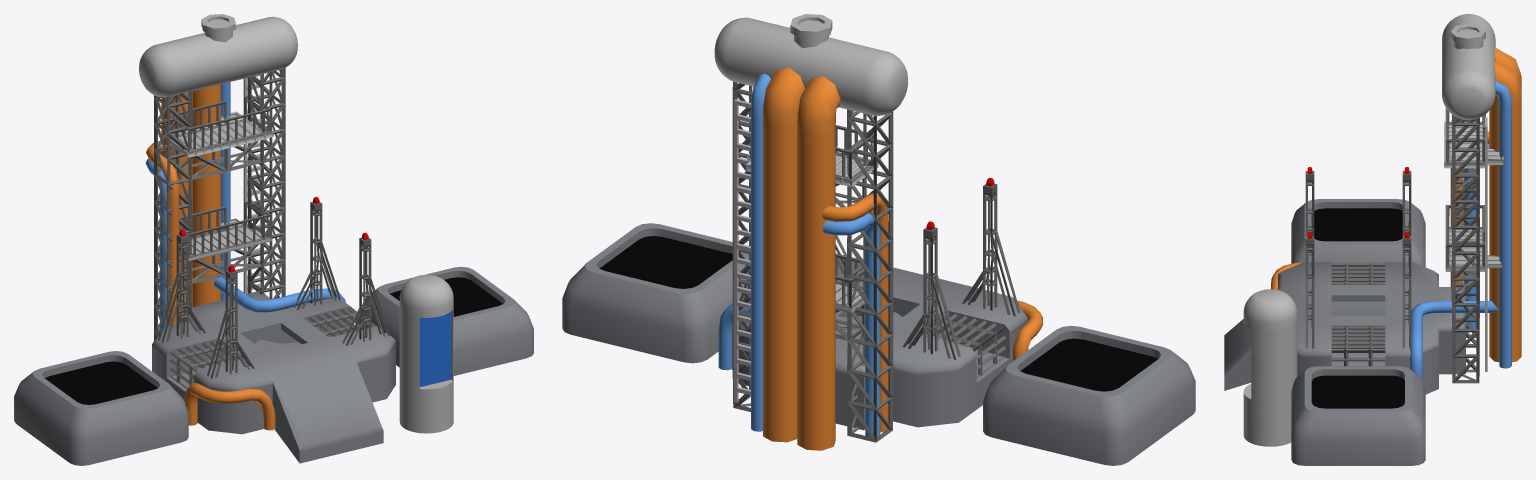
The model's file is Launch Pad.fbx.
3 renders of one model, left to right at view 1: azimuth 30°, elevation 25°; view 2: azimuth 150°, elevation 25°; view 3: azimuth 270°, elevation 25°, orthographic. The views are drawn at different scales.
Parts seen in each view (by area): view 1: Base, Drop zones, Support, Tank, Tank.001, Drop zones.001, RubarPillars, Pipe Big, Fence bot, Fence top, Grid, Catwalk top (+8 smaller); view 2: Pipe Big, Drop zones, Drop zones.001, Base, Support, Tank, RubarPillars, Pipe 1, Ladder, Pipe 3.001, Pipe 4, Grid (+5 smaller); view 3: Base, Drop zones.001, Drop zones, Tank.001, Pipe Big, Support, Tank, Pipe 1, Grid, RubarPillars, Pipe 2, Catwalk top (+7 smaller).
Boxes of the visible parts, bbox=[...] form: Base: bbox=[152, 291, 395, 463]; Drop zones: bbox=[14, 351, 188, 465]; Support: bbox=[154, 67, 285, 340]; Tank: bbox=[139, 14, 297, 97]; Tank.001: bbox=[399, 274, 453, 433]; Drop zones.001: bbox=[361, 266, 533, 375]; RubarPillars: bbox=[158, 208, 389, 378]; Pipe Big: bbox=[161, 84, 220, 309]; Fence bot: bbox=[179, 200, 271, 261]; Fence top: bbox=[170, 95, 271, 151]; Grid: bbox=[169, 307, 375, 389]; Catwalk top: bbox=[166, 111, 273, 157]; Pipe Big: bbox=[763, 67, 840, 450]; Drop zones: bbox=[983, 326, 1195, 465]; Drop zones.001: bbox=[562, 223, 748, 363]; Base: bbox=[731, 257, 1027, 430]; Support: bbox=[732, 81, 893, 442]; Tank: bbox=[714, 14, 907, 115]; RubarPillars: bbox=[739, 191, 1020, 359]; Pipe 1: bbox=[751, 73, 770, 431]; Ladder: bbox=[734, 99, 751, 402]; Pipe 3.001: bbox=[822, 213, 880, 437]; Pipe 4: bbox=[822, 193, 888, 432]; Grid: bbox=[915, 312, 1005, 377]; Base: bbox=[1224, 262, 1465, 394]; Drop zones.001: bbox=[1291, 366, 1425, 465]; Drop zones: bbox=[1291, 199, 1425, 278]; Tank.001: bbox=[1243, 289, 1297, 446]; Pipe Big: bbox=[1489, 48, 1521, 362]; Support: bbox=[1451, 114, 1479, 383]; Tank: bbox=[1442, 14, 1495, 119]; Pipe 1: bbox=[1495, 81, 1511, 368]; Grid: bbox=[1331, 262, 1385, 366]; RubarPillars: bbox=[1305, 180, 1411, 348]; Pipe 2: bbox=[1410, 301, 1498, 380]; Catwalk top: bbox=[1444, 121, 1503, 168].
Size of the model in its own units: 19.73 by 14.44 by 11.08.
